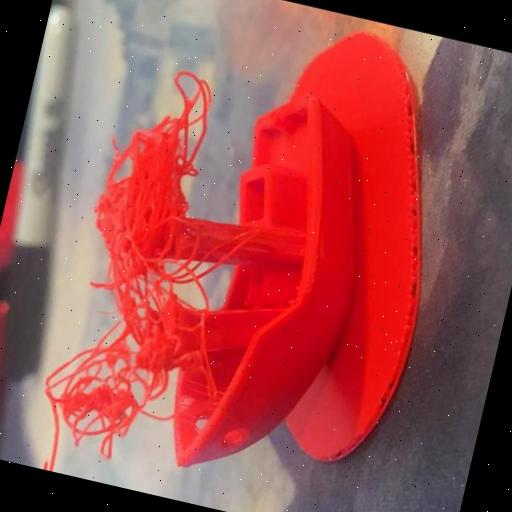spaghetti: (94, 228, 218, 376), (40, 324, 160, 460), (150, 69, 221, 171)
